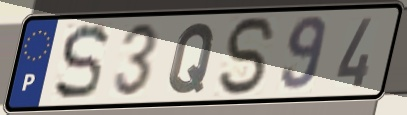3: (111, 20, 162, 100)
4: (334, 16, 374, 90)
9: (277, 13, 329, 96)
Q: (166, 20, 219, 97)
S: (217, 14, 281, 99), (51, 21, 112, 103)
